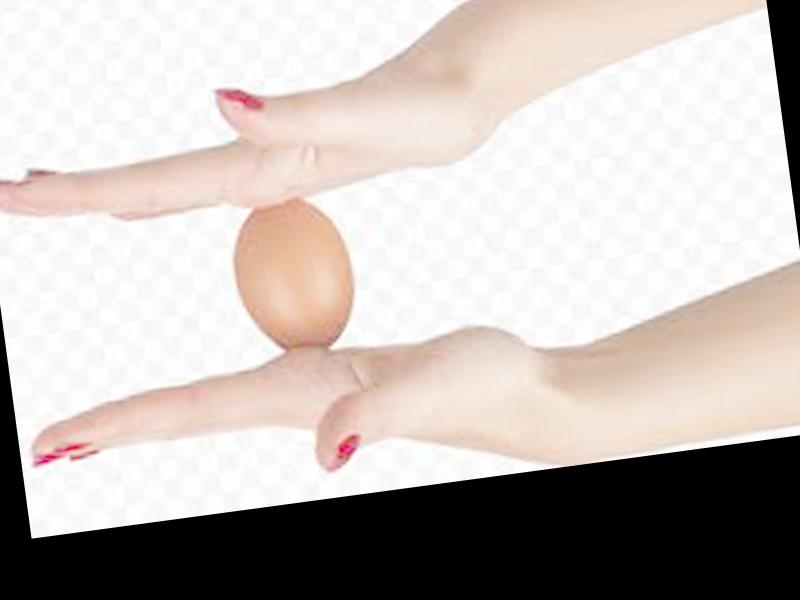Eggs: (229, 192, 361, 356)
